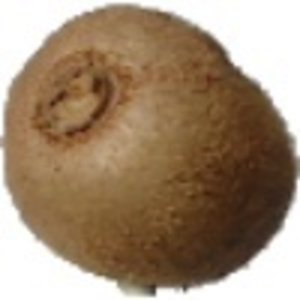kiwi: (1, 2, 300, 299)
